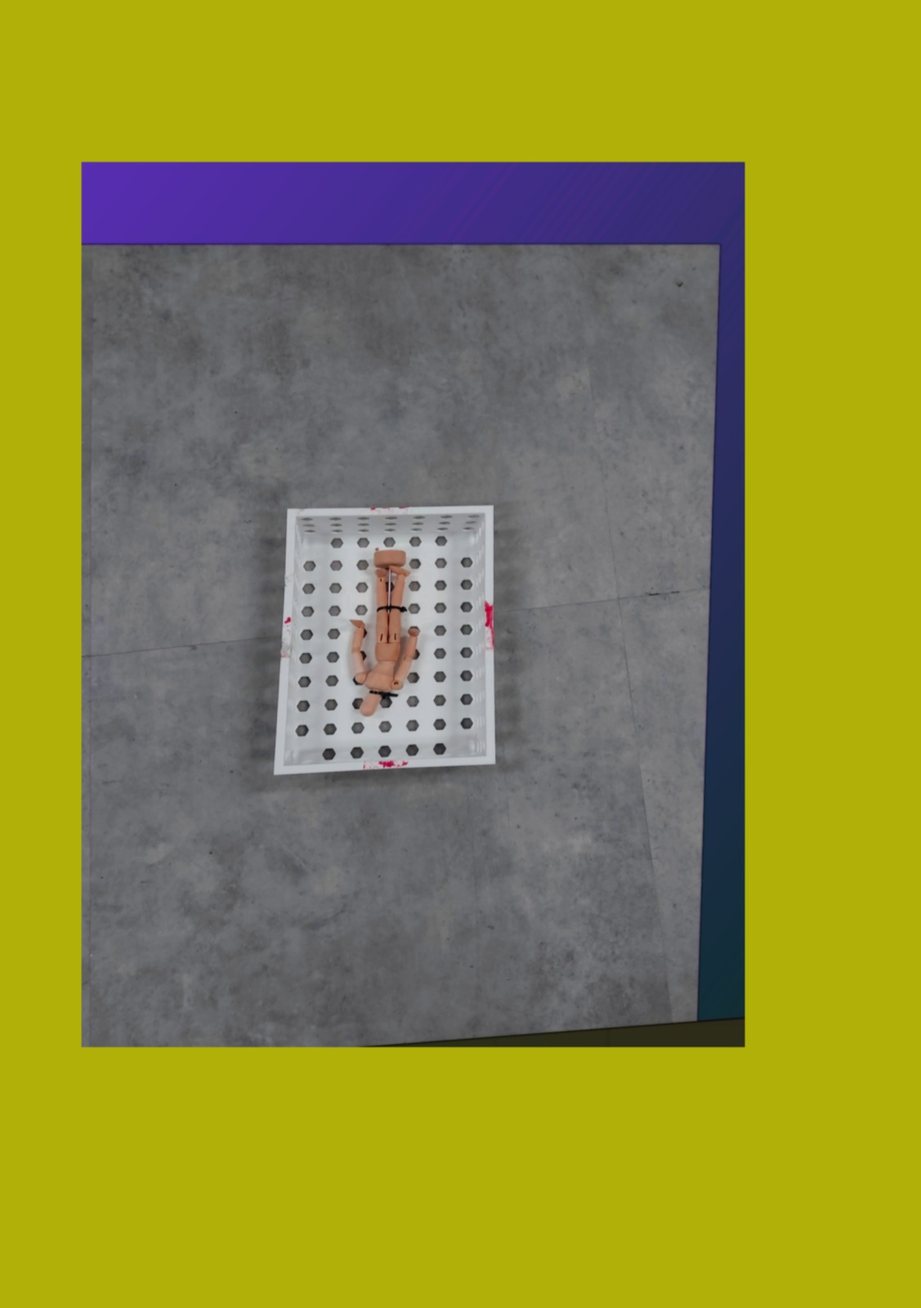basket: (263, 495, 510, 786)
mannequin: (345, 544, 427, 723)
